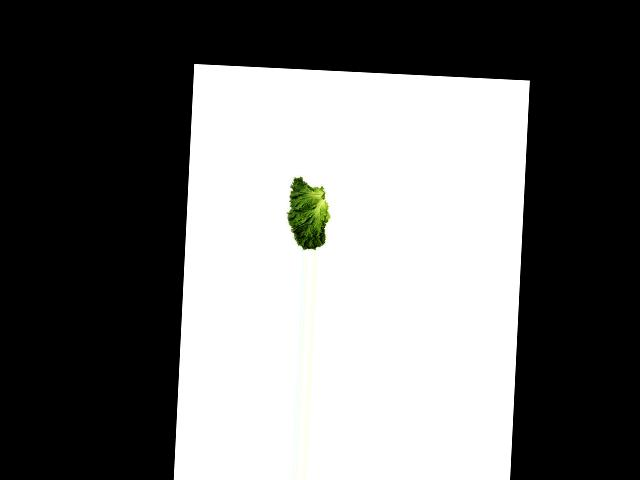lettuce: (280, 176, 334, 251)
